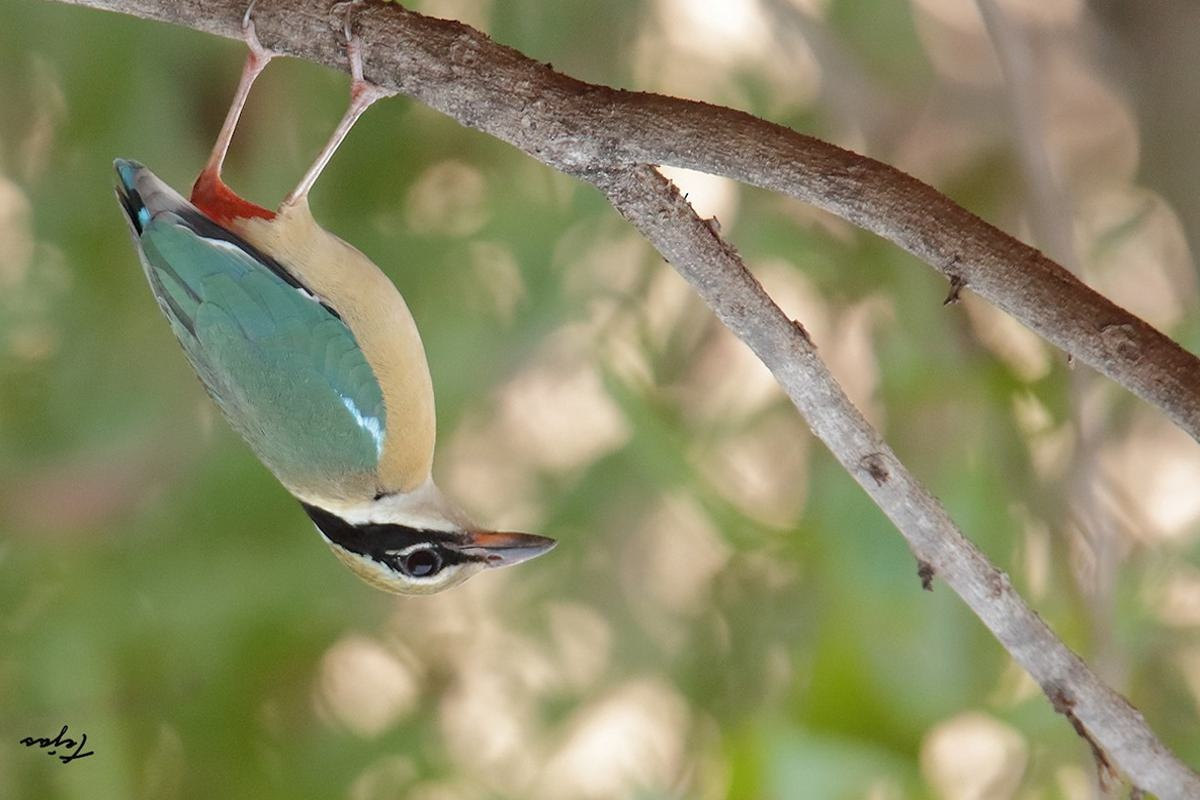pitta: (115, 34, 580, 614)
